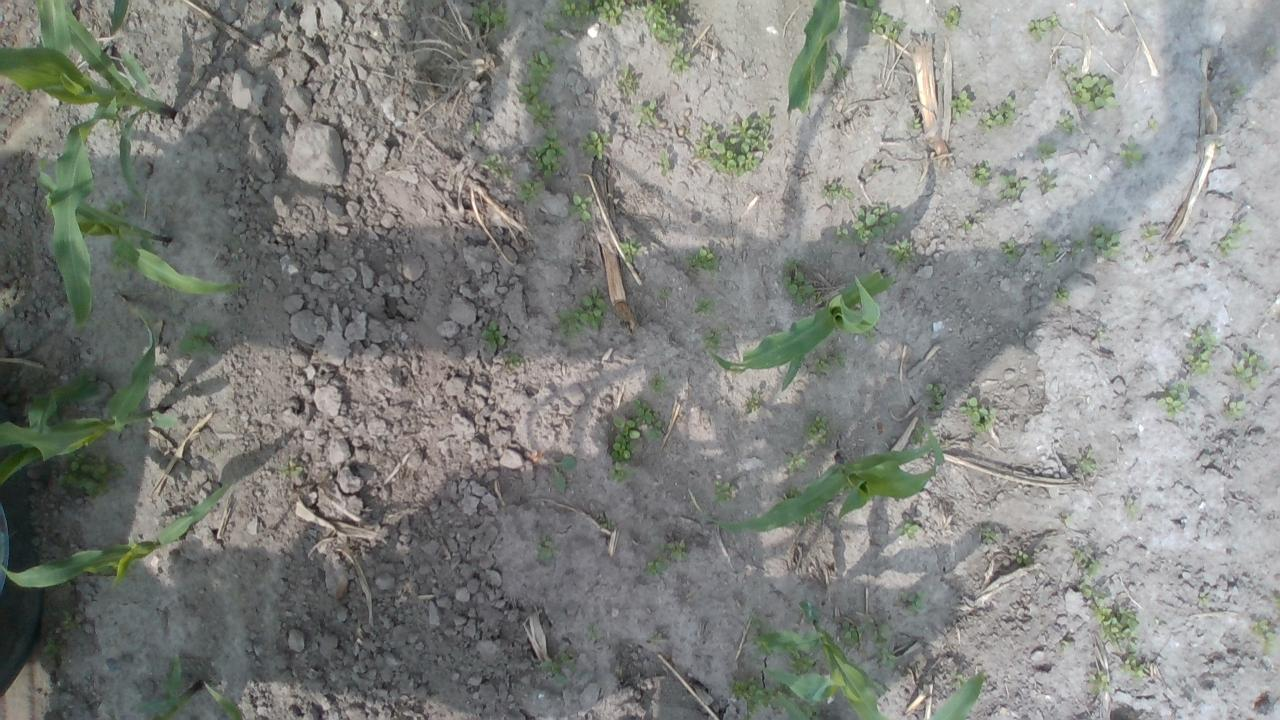Maize: (0, 0, 179, 328), (0, 316, 180, 485), (32, 155, 240, 299), (708, 425, 948, 531), (0, 480, 229, 589), (756, 615, 985, 720), (708, 271, 894, 390), (130, 652, 244, 720), (782, 0, 842, 117)
Weeds: (692, 109, 771, 176), (57, 444, 126, 500), (514, 50, 558, 126), (1059, 63, 1119, 114), (559, 286, 607, 338), (641, 0, 689, 48), (524, 128, 570, 176), (557, 0, 626, 32), (850, 206, 905, 244), (729, 676, 776, 720), (1094, 606, 1139, 646), (60, 379, 113, 412), (780, 258, 816, 306), (1186, 324, 1218, 376), (608, 413, 640, 463), (629, 398, 665, 442), (174, 322, 220, 354), (535, 652, 576, 686), (981, 96, 1017, 134), (1233, 351, 1272, 386), (864, 8, 906, 40), (959, 397, 996, 433), (470, 0, 509, 33), (551, 455, 579, 498), (1218, 218, 1248, 258), (1090, 224, 1126, 257), (577, 129, 610, 162), (1158, 383, 1188, 419), (518, 178, 550, 208), (1120, 646, 1148, 678), (686, 247, 719, 274), (995, 173, 1029, 199), (886, 240, 916, 269), (1076, 574, 1103, 606), (614, 64, 641, 96), (838, 620, 866, 650), (901, 588, 929, 618), (566, 190, 592, 222), (479, 154, 513, 178), (532, 534, 559, 563), (804, 415, 829, 446), (822, 182, 857, 204), (787, 650, 817, 675), (1027, 14, 1057, 39), (654, 541, 689, 562), (480, 321, 506, 349), (712, 478, 738, 506), (950, 90, 973, 121), (999, 238, 1024, 264), (636, 100, 660, 127), (278, 460, 306, 482), (100, 196, 128, 218), (925, 382, 946, 411), (60, 610, 80, 640), (1120, 143, 1144, 168), (618, 238, 641, 264), (782, 452, 809, 474), (642, 560, 672, 579), (692, 295, 720, 315), (942, 6, 962, 34), (1086, 671, 1110, 694), (108, 242, 126, 272), (702, 327, 721, 355), (798, 599, 821, 622), (830, 53, 849, 80), (777, 682, 800, 704), (969, 164, 992, 186), (1078, 449, 1098, 473), (668, 52, 692, 72), (779, 485, 806, 502), (1260, 631, 1279, 655), (873, 621, 890, 647), (896, 521, 922, 538), (878, 646, 898, 668), (812, 354, 832, 376), (650, 374, 670, 396), (1225, 400, 1248, 419), (544, 35, 573, 50), (750, 640, 774, 658), (1036, 142, 1058, 160), (657, 150, 673, 174), (1040, 239, 1060, 258), (1070, 238, 1088, 258), (1056, 114, 1074, 134), (981, 526, 998, 546), (608, 463, 625, 482), (1039, 174, 1056, 193), (1016, 548, 1033, 566), (1054, 288, 1072, 305), (745, 394, 759, 415), (586, 622, 602, 640), (750, 615, 769, 630), (951, 672, 968, 688), (1250, 618, 1268, 633), (802, 510, 826, 521), (108, 119, 121, 139), (801, 702, 817, 718), (910, 430, 926, 446), (834, 225, 850, 241), (1086, 558, 1100, 576), (1230, 82, 1248, 96), (833, 351, 847, 368), (864, 328, 878, 344), (510, 354, 526, 368), (1144, 226, 1160, 240), (542, 16, 558, 30), (655, 287, 672, 300), (854, 0, 878, 9), (43, 640, 58, 654), (1127, 497, 1137, 516), (908, 117, 922, 130), (1056, 639, 1072, 650), (1264, 46, 1278, 58), (626, 0, 641, 11), (648, 630, 664, 640), (470, 121, 480, 136), (600, 511, 608, 528), (1072, 549, 1084, 560), (1098, 328, 1106, 344), (1198, 596, 1210, 606), (1150, 117, 1158, 131), (1144, 250, 1154, 260), (1062, 514, 1072, 524), (962, 220, 972, 230), (815, 295, 826, 304), (871, 162, 880, 172)
